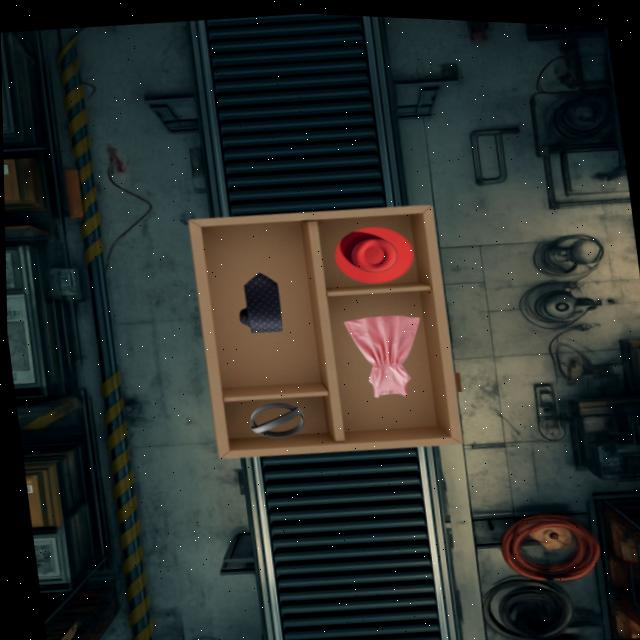belt: (251, 403, 305, 437)
dress: (344, 315, 419, 397)
hat: (335, 226, 413, 283)
tie: (240, 273, 282, 333)
